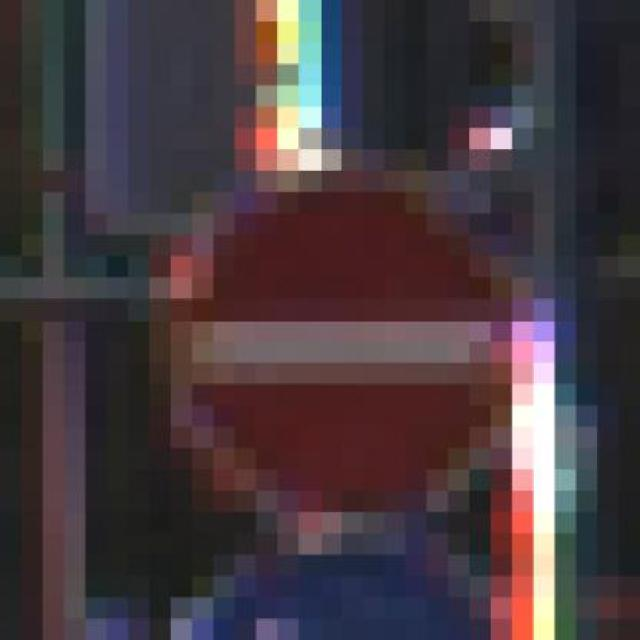No Entry: (107, 149, 555, 534)
